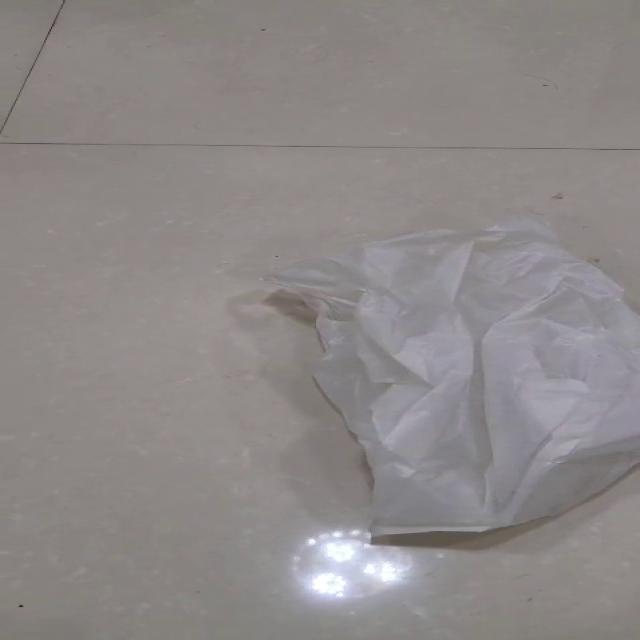plastic: (258, 215, 639, 538)
